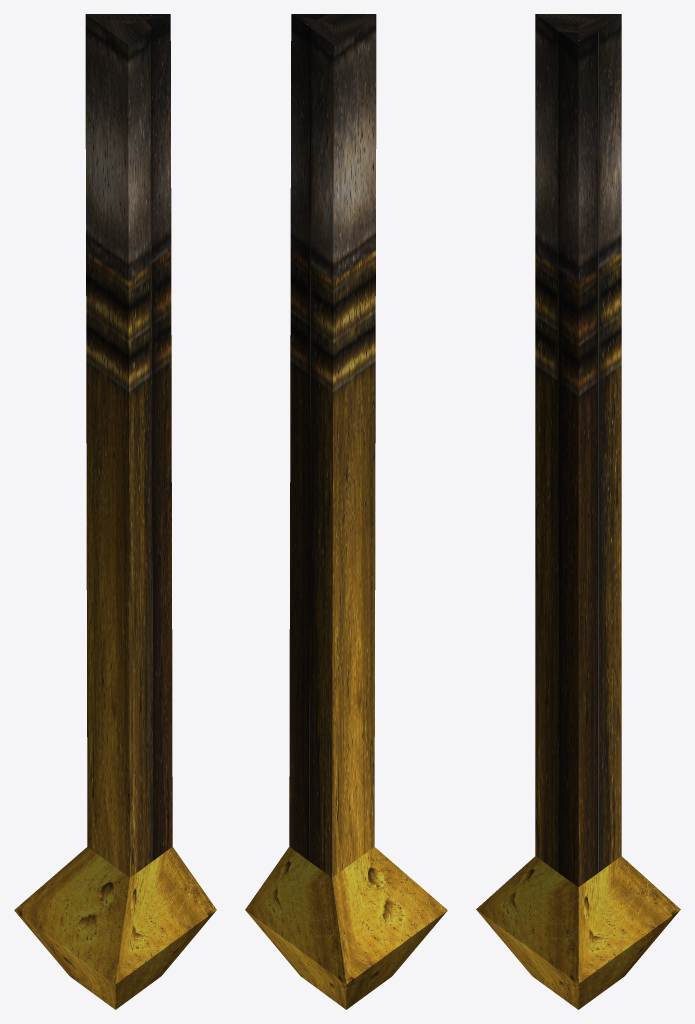
The model's file is mm9_deco_bell_dclapper.glb.
The picture shows the model from 3 angles, left to right: view 1: azimuth 30°, elevation 25°; view 2: azimuth 150°, elevation 25°; view 3: azimuth 270°, elevation 25°; orthographic projection.
Parts seen in each view (by area): view 1: Bell; view 2: Bell; view 3: Bell.
Boxes of the visible parts, bbox=[...] form: Bell: bbox=[14, 14, 216, 1009]; Bell: bbox=[245, 14, 447, 1009]; Bell: bbox=[476, 14, 680, 1009].
Bounding box in the file's own units: 0.4449 × 2.68 × 0.5137.
1 material, 1 textured.
